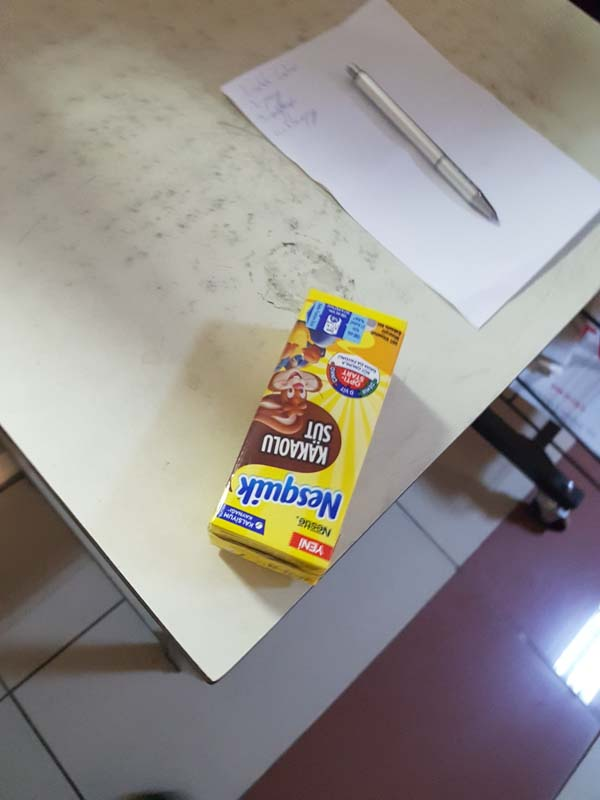nesquick200ml: (204, 286, 409, 599)
